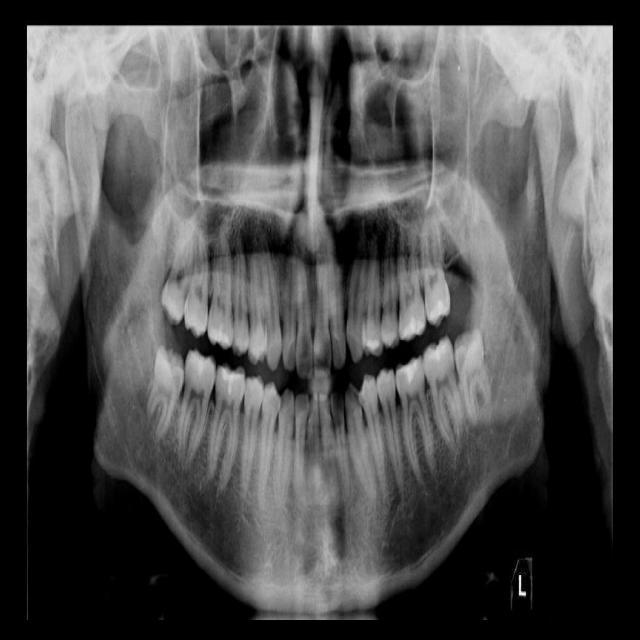Filling: (220, 363, 245, 393), (427, 337, 449, 365), (402, 315, 425, 341), (429, 300, 451, 325), (400, 359, 422, 384), (209, 326, 231, 346), (366, 337, 378, 351)
impacted tooth: (142, 346, 185, 438), (453, 328, 493, 420), (159, 222, 194, 319)
